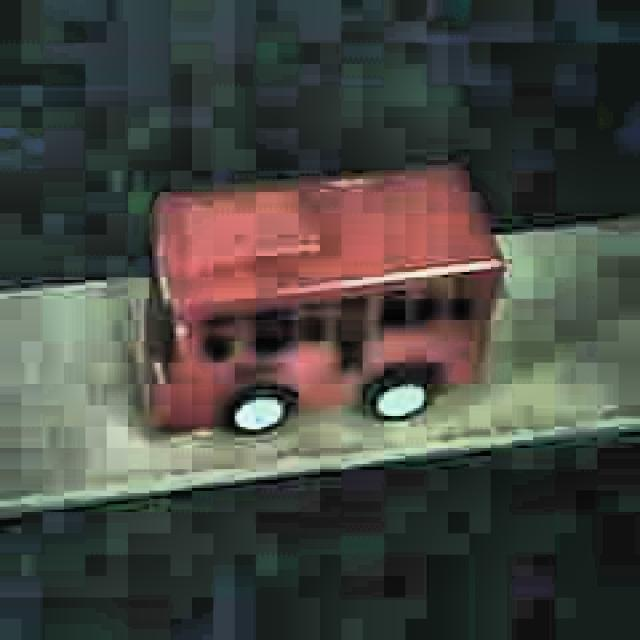bus: (145, 163, 505, 440)
